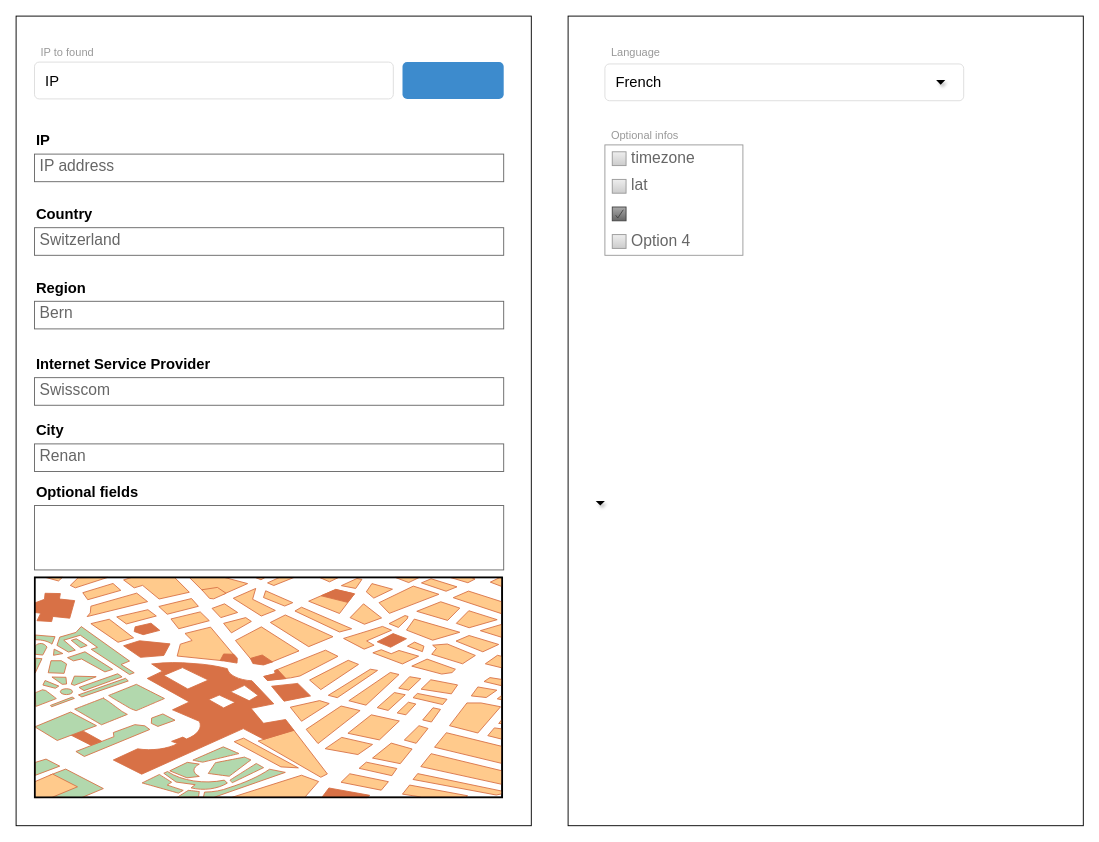
The diagram is 1099 pixels wide and 842 high, and some of its shapes have lost their labels. The shapes that lost their labels are listed below. From the top down, each one's centre as x and y in pixels, then its label:
the point at 452,80: Search
the point at 618,213: lon
the point at 269,537: timezone = xxxxxxx lat : 45.56 lon : 6.56
